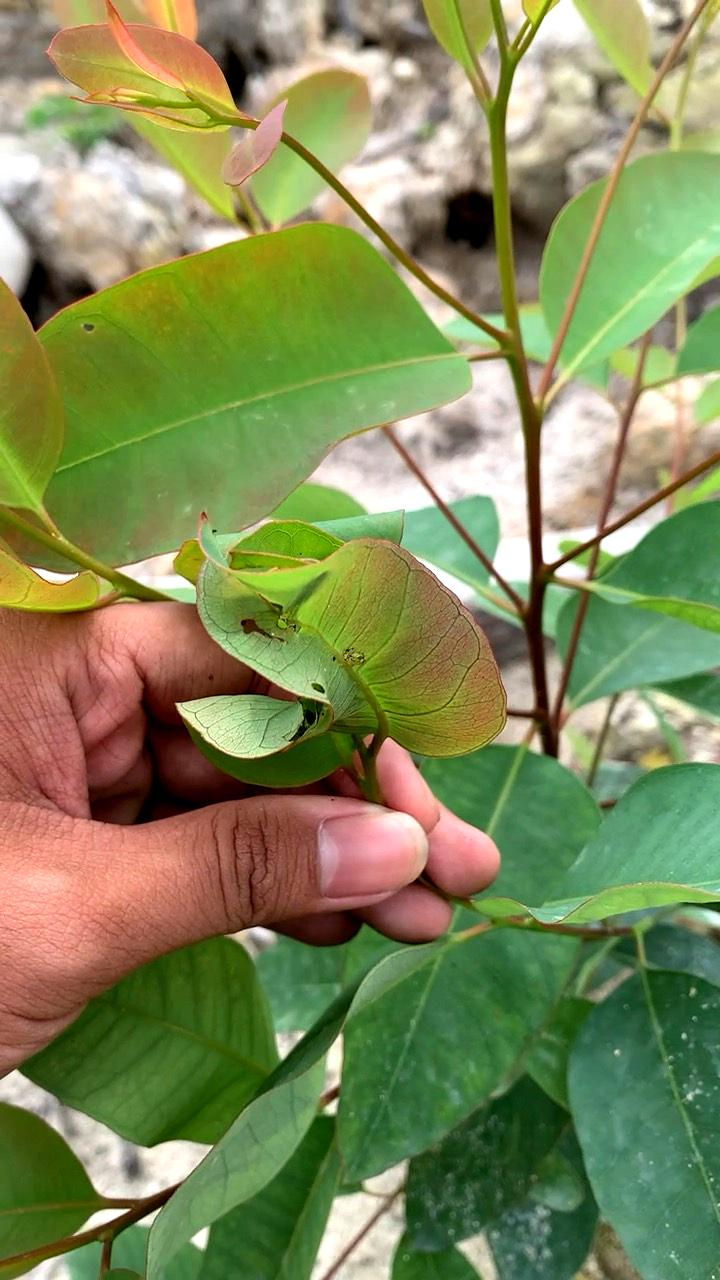Leaf Roller - Leaf: (153, 503, 526, 844)
